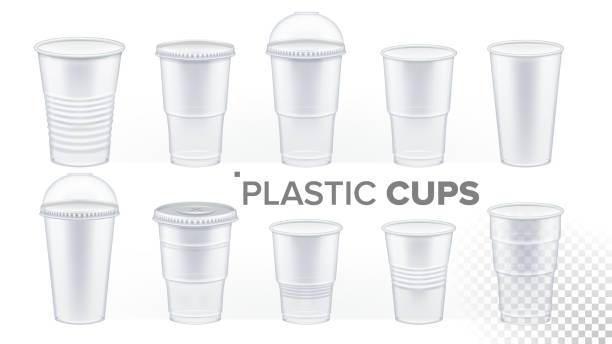plastic_glass: (33, 170, 130, 329), (263, 7, 347, 170), (31, 33, 131, 169), (148, 192, 241, 333), (485, 35, 571, 179), (150, 31, 234, 170), (483, 199, 566, 334), (262, 210, 349, 333), (378, 35, 456, 172), (381, 210, 455, 334)
